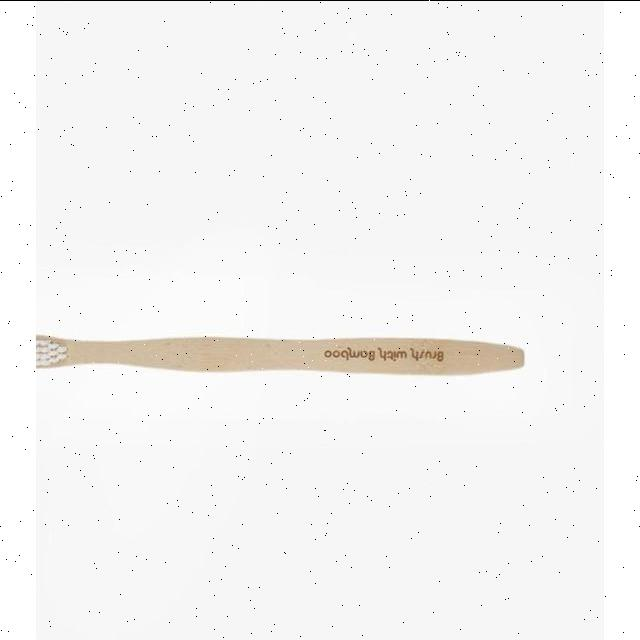toothbrush: (37, 326, 546, 394)
